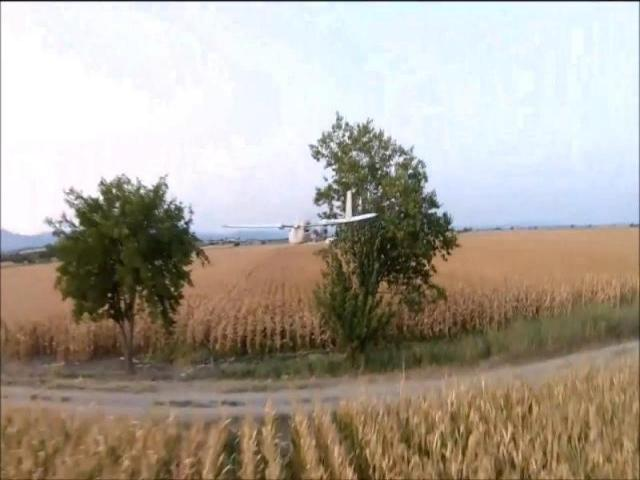hedef: (220, 188, 378, 250)
